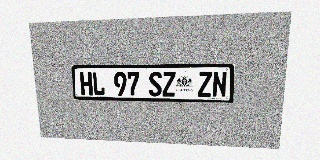7: (127, 72, 140, 96)
9: (114, 72, 127, 96)
H: (80, 72, 93, 95)
L: (92, 72, 105, 96)
N: (212, 71, 227, 97)
S: (149, 72, 162, 96)
Z: (198, 71, 212, 97), (162, 72, 176, 97)
